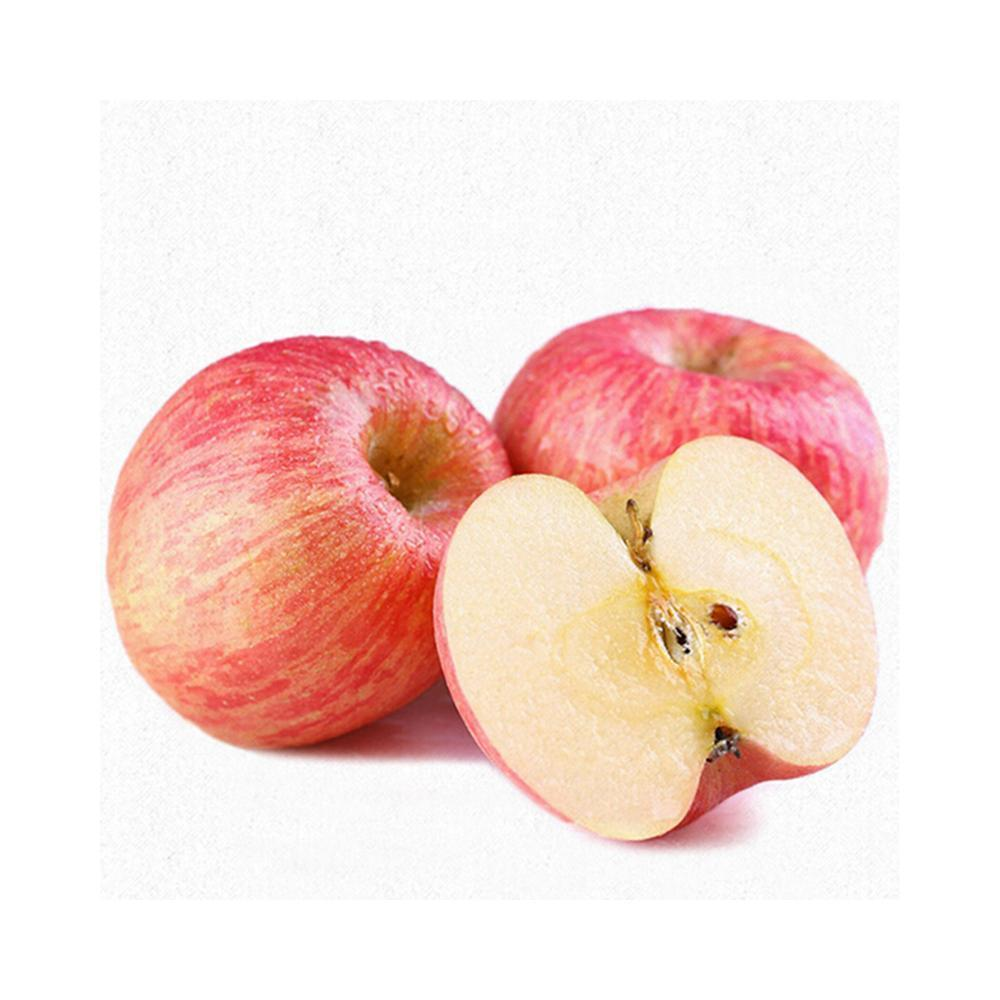apple: (103, 330, 577, 751), (484, 301, 889, 577)
